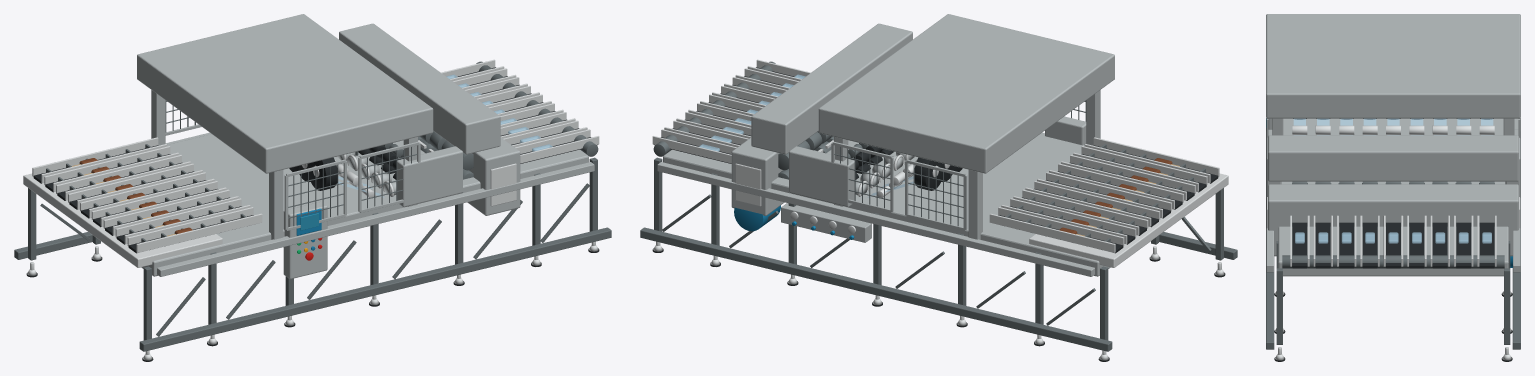
Rendered from tetra-pak-hoyer-flowrap-mw-1700-9.glb.
The picture shows the model from 3 angles, left to right: view 1: azimuth 30°, elevation 25°; view 2: azimuth 150°, elevation 25°; view 3: azimuth 270°, elevation 25°; orthographic projection.
Parts seen in each view (by area): view 1: film.header, frame.process_bed, cross_seal.header, frame.base_rail.operator, frame.work_rail.operator, forming.drive_cover.operator, frame.infeed_apron, control.pedestal, cross_seal.terminal_cabinet, infeed.guide.operator.1, film.portal.operator.left, infeed.guide.far.8 (+28 smaller); view 2: film.header, frame.process_bed, cross_seal.header, frame.base_rail.far, frame.work_rail.far, forming.drive_cover.far, frame.infeed_apron, cross_seal.terminal_cabinet, utilities.pneumatic_manifold, infeed.guide.far.9, film.portal.far.left, infeed.guide.operator.2 (+30 smaller); view 3: film.header, cross_seal.header, cross_seal.terminal_cabinet, frame.process_bed, outfeed.end_roller, frame.base_rail.operator, frame.base_rail.far, outfeed.belt.2, outfeed.belt.3, outfeed.belt.7, outfeed.belt.8, outfeed.belt.1 (+12 smaller).
Part boxes in pixels (x1,y1,x2,y2): film.header: [137, 14, 433, 173]; frame.process_bed: [141, 134, 588, 276]; cross_seal.header: [339, 23, 500, 154]; frame.base_rail.operator: [139, 227, 611, 351]; frame.work_rail.operator: [157, 162, 594, 276]; forming.drive_cover.operator: [397, 146, 462, 207]; frame.infeed_apron: [23, 173, 222, 267]; control.pedestal: [283, 201, 327, 279]; cross_seal.terminal_cabinet: [467, 137, 520, 215]; infeed.guide.operator.1: [136, 213, 262, 252]; film.portal.operator.left: [269, 170, 283, 239]; infeed.guide.far.8: [44, 146, 170, 185]; film.header: [818, 14, 1114, 173]; frame.process_bed: [663, 134, 1110, 276]; cross_seal.header: [751, 23, 912, 154]; frame.base_rail.far: [640, 227, 1112, 351]; frame.work_rail.far: [657, 162, 1094, 276]; forming.drive_cover.far: [789, 146, 854, 207]; frame.infeed_apron: [1029, 173, 1228, 267]; cross_seal.terminal_cabinet: [731, 137, 784, 215]; utilities.pneumatic_manifold: [781, 203, 871, 242]; infeed.guide.far.9: [989, 213, 1115, 252]; film.portal.far.left: [968, 170, 982, 239]; infeed.guide.operator.2: [1081, 146, 1207, 185]; film.header: [1266, 14, 1520, 118]; cross_seal.header: [1268, 135, 1518, 181]; cross_seal.terminal_cabinet: [1268, 184, 1518, 256]; frame.process_bed: [1278, 118, 1508, 276]; outfeed.end_roller: [1282, 255, 1504, 268]; frame.base_rail.operator: [1266, 118, 1274, 349]; frame.base_rail.far: [1512, 118, 1520, 349]; outfeed.belt.2: [1315, 222, 1330, 268]; outfeed.belt.3: [1339, 222, 1354, 268]; outfeed.belt.7: [1432, 222, 1447, 268]; outfeed.belt.8: [1456, 222, 1471, 268]; outfeed.belt.1: [1292, 222, 1307, 268].
Size of the model in its own units: 6.36 by 2.45 by 3.05.
